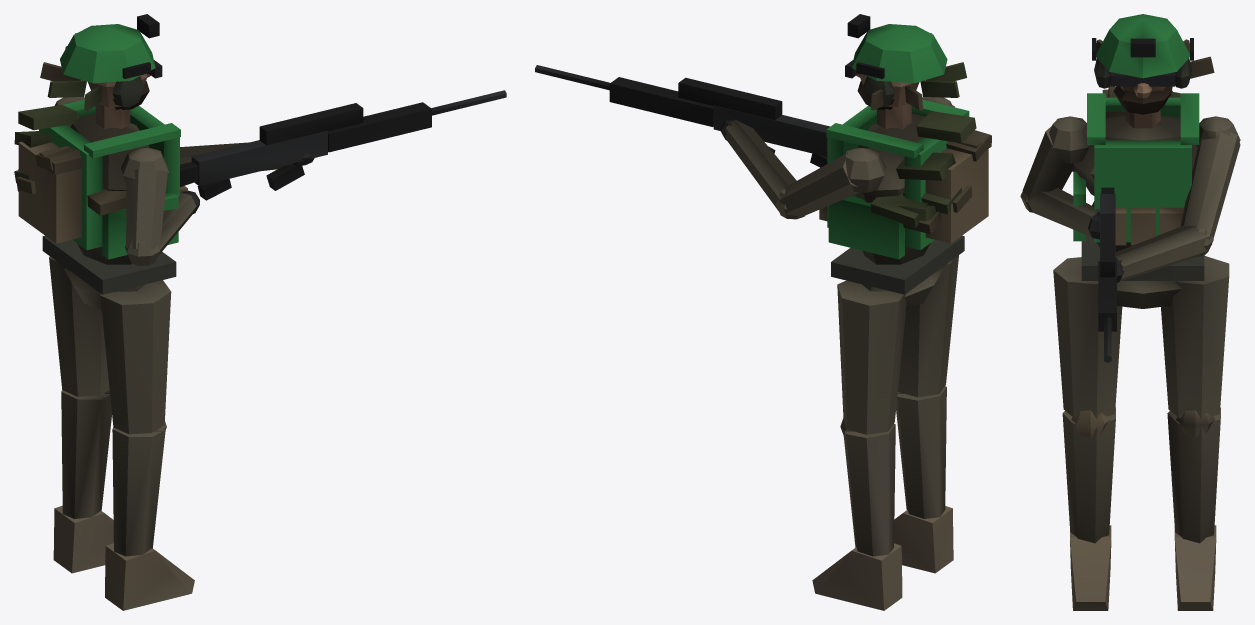
File: u_sniper_lod1.glb
3 renders of one model, left to right at view 1: azimuth 30°, elevation 25°; view 2: azimuth 150°, elevation 25°; view 3: azimuth 270°, elevation 25°, orthographic. The views are drawn at different scales.
Parts seen in each view (by area): view 1: Sniper_LOD1_Walls, Sniper_LOD1_shL, Sniper_LOD1_Details, Sniper_LOD1_thL, Sniper_LOD1_shR, Sniper_LOD1_thR; view 2: Sniper_LOD1_Walls, Sniper_LOD1_Details, Sniper_LOD1_shR, Sniper_LOD1_thR, Sniper_LOD1_shL, Sniper_LOD1_thL; view 3: Sniper_LOD1_Walls, Sniper_LOD1_shR, Sniper_LOD1_shL, Sniper_LOD1_thR, Sniper_LOD1_thL, Sniper_LOD1_Details.
Part boxes in pixels (<box>): Sniper_LOD1_Walls: <box>18,14,506,309</box>; Sniper_LOD1_shL: <box>105,421,194,610</box>; Sniper_LOD1_Details: <box>14,33,176,294</box>; Sniper_LOD1_thL: <box>100,280,171,434</box>; Sniper_LOD1_shR: <box>53,390,113,573</box>; Sniper_LOD1_thR: <box>49,256,109,396</box>; Sniper_LOD1_Walls: <box>535,14,988,309</box>; Sniper_LOD1_Details: <box>831,33,991,294</box>; Sniper_LOD1_shR: <box>812,416,902,610</box>; Sniper_LOD1_thR: <box>837,280,906,434</box>; Sniper_LOD1_shL: <box>894,386,953,573</box>; Sniper_LOD1_thL: <box>898,255,958,397</box>; Sniper_LOD1_Walls: <box>1020,14,1240,362</box>; Sniper_LOD1_shR: <box>1167,407,1220,610</box>; Sniper_LOD1_shL: <box>1062,407,1115,610</box>; Sniper_LOD1_thR: <box>1161,256,1229,418</box>; Sniper_LOD1_thL: <box>1053,257,1122,418</box>; Sniper_LOD1_Details: <box>1072,38,1214,280</box>.
Bounding box in the file's own units: 0.5183 × 0.6016 × 0.2118.
